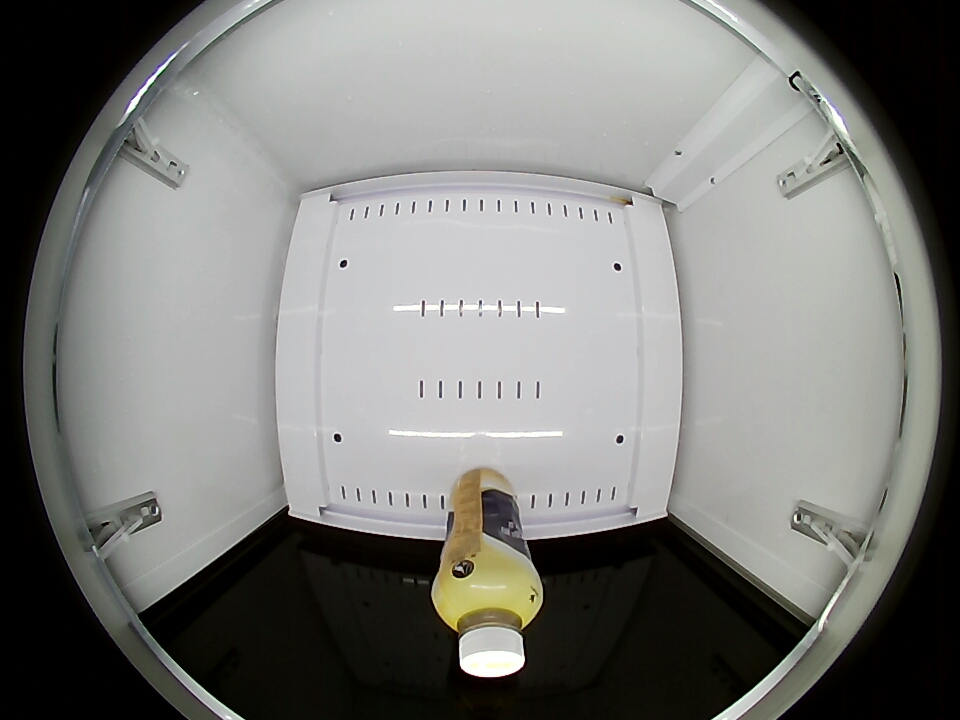asamu: (434, 566, 542, 678)
